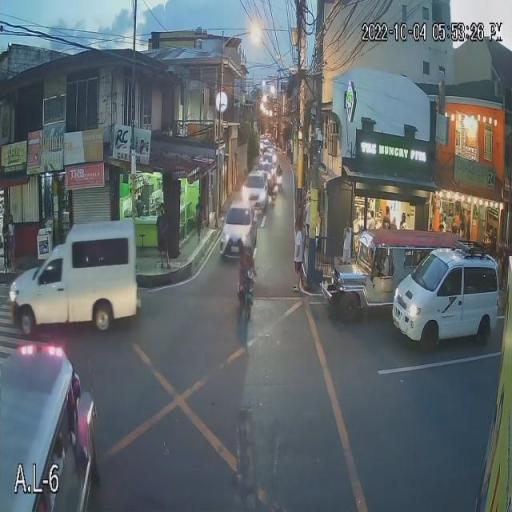motorcycle: (237, 272, 256, 324)
rider: (238, 246, 256, 296)
